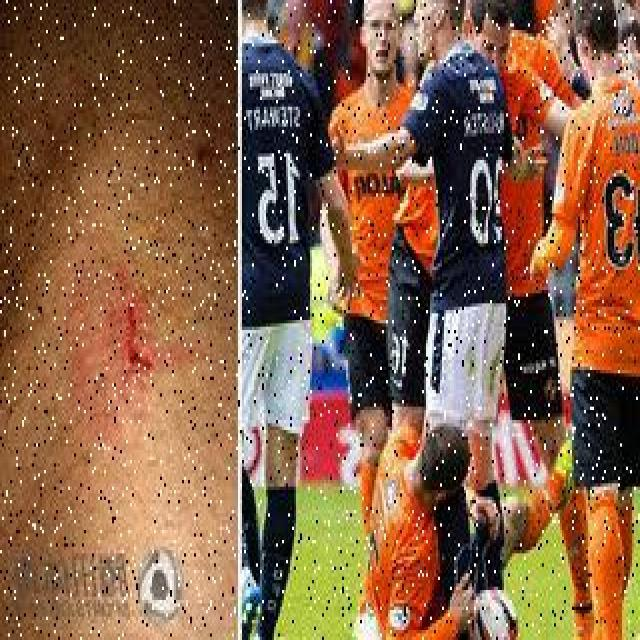fall: (360, 430, 564, 637)
